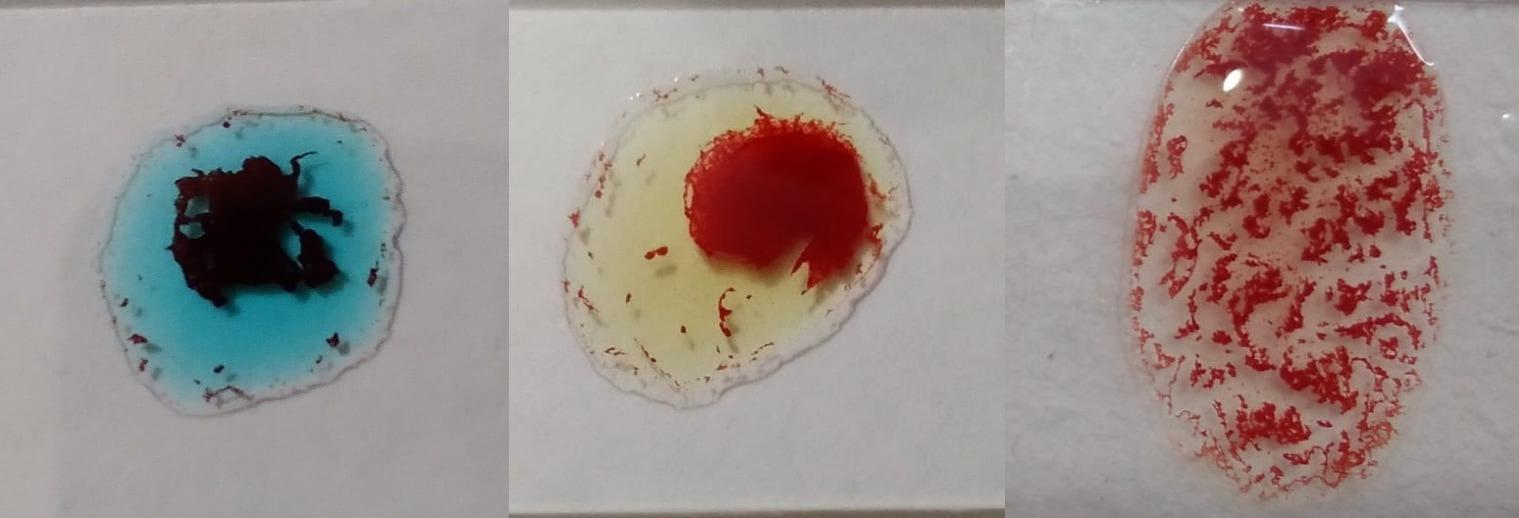A: (120, 103, 398, 416)
B: (570, 59, 899, 405)
D: (1129, 5, 1458, 495)
